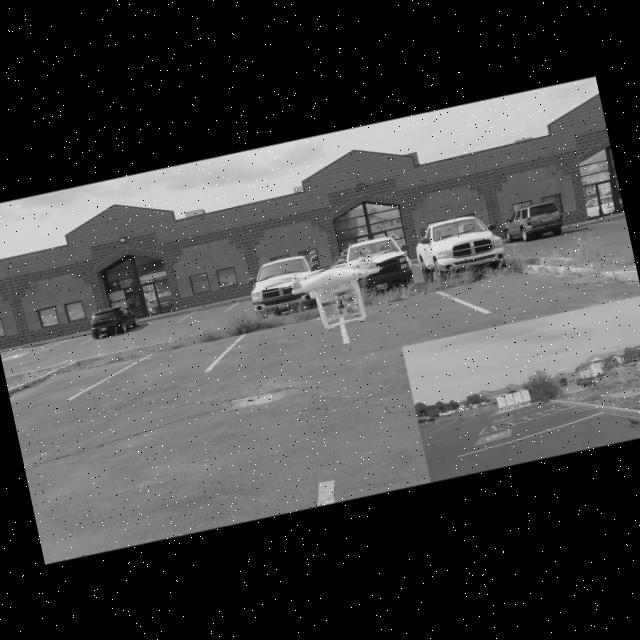Drons: (264, 241, 406, 354)
